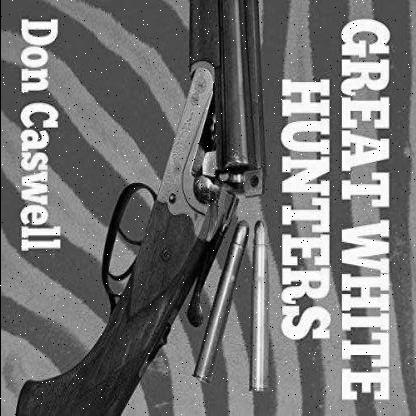rifle: (10, 0, 272, 414)
